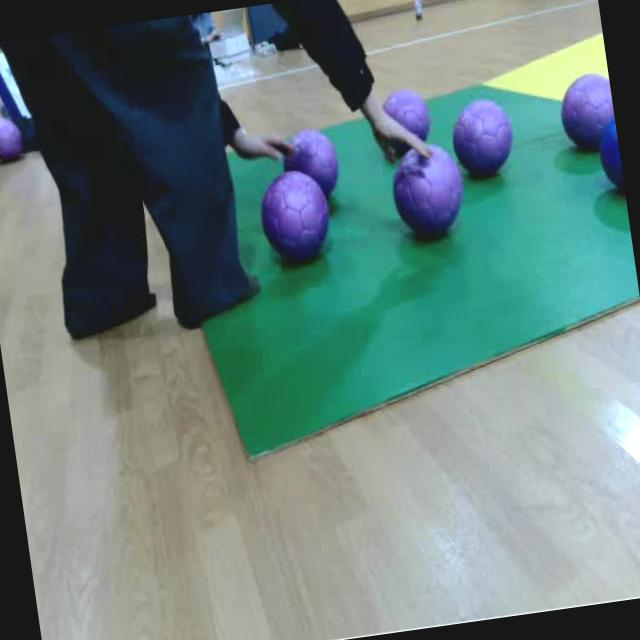blue_ball: (594, 111, 626, 198)
purple_ball: (256, 166, 336, 267), (388, 140, 468, 239), (450, 96, 518, 180), (278, 126, 342, 203), (557, 72, 618, 150), (379, 88, 432, 150), (0, 111, 25, 161)
